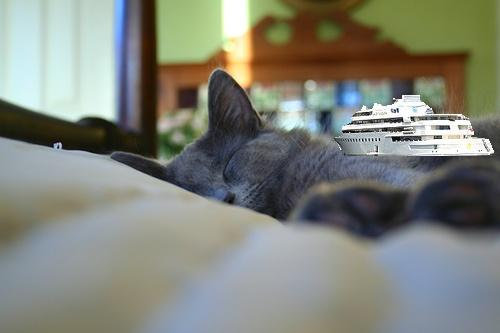tampered: (335, 96, 494, 156)
